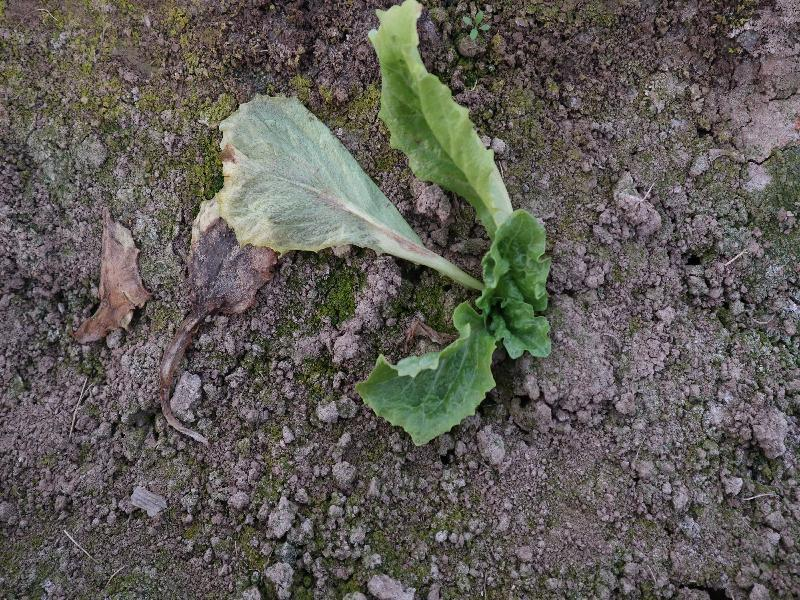lettuce: (214, 0, 554, 447)
